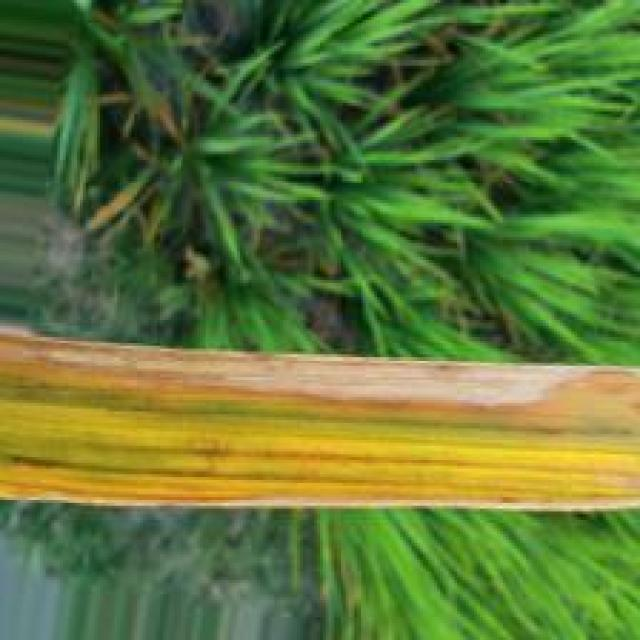Bacterial_Leaf_Blight: (0, 328, 640, 516)
